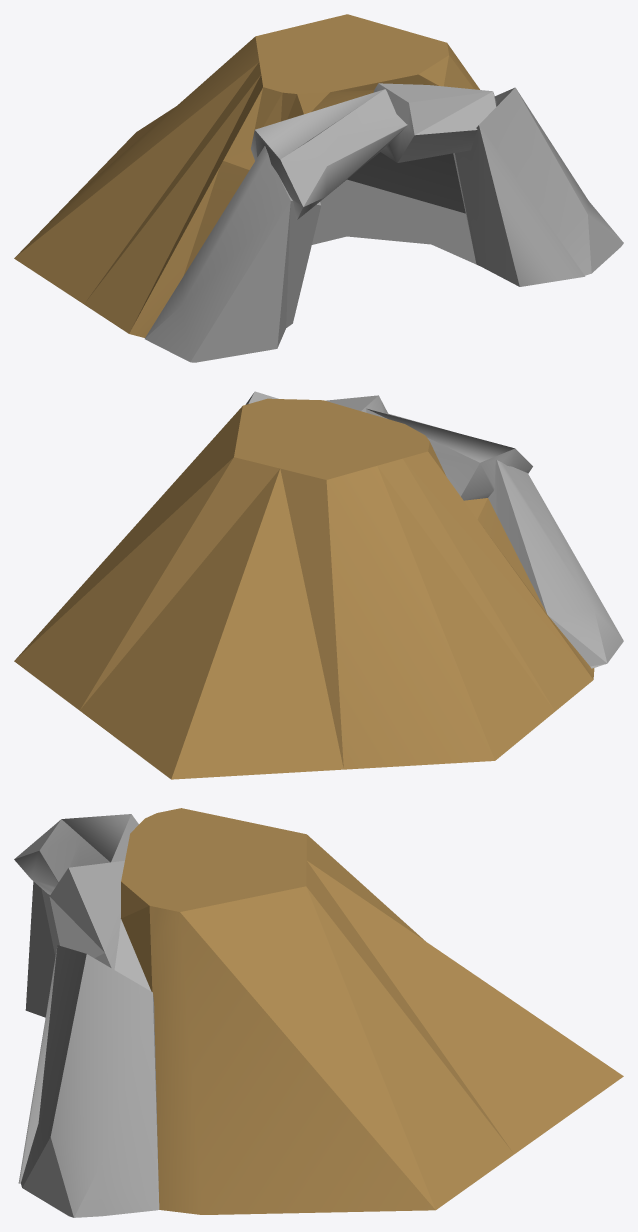
Rendered from Cave.fbx.
3 renders of one model, top to bottom at view 1: azimuth 30°, elevation 25°; view 2: azimuth 150°, elevation 25°; view 3: azimuth 270°, elevation 25°, orthographic. The views are drawn at different scales.
Visible parts, largest first — view 1: polySurface2155; view 2: polySurface2155; view 3: polySurface2155.
Boxes of the visible parts, <box> form: polySurface2155: <box>14,14,623,362</box>; polySurface2155: <box>14,391,623,779</box>; polySurface2155: <box>14,808,623,1217</box>.
Bounding box in the file's own units: 12.59 × 5.09 × 12.11.
